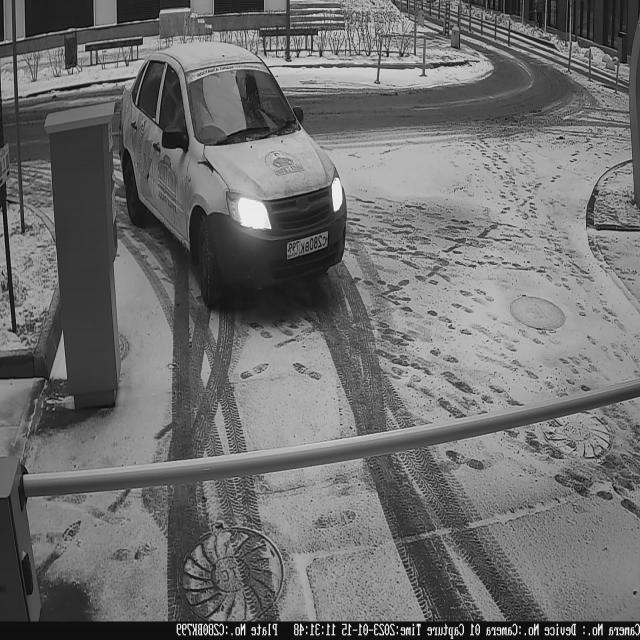car-plate-numbers: (285, 231, 332, 262)
